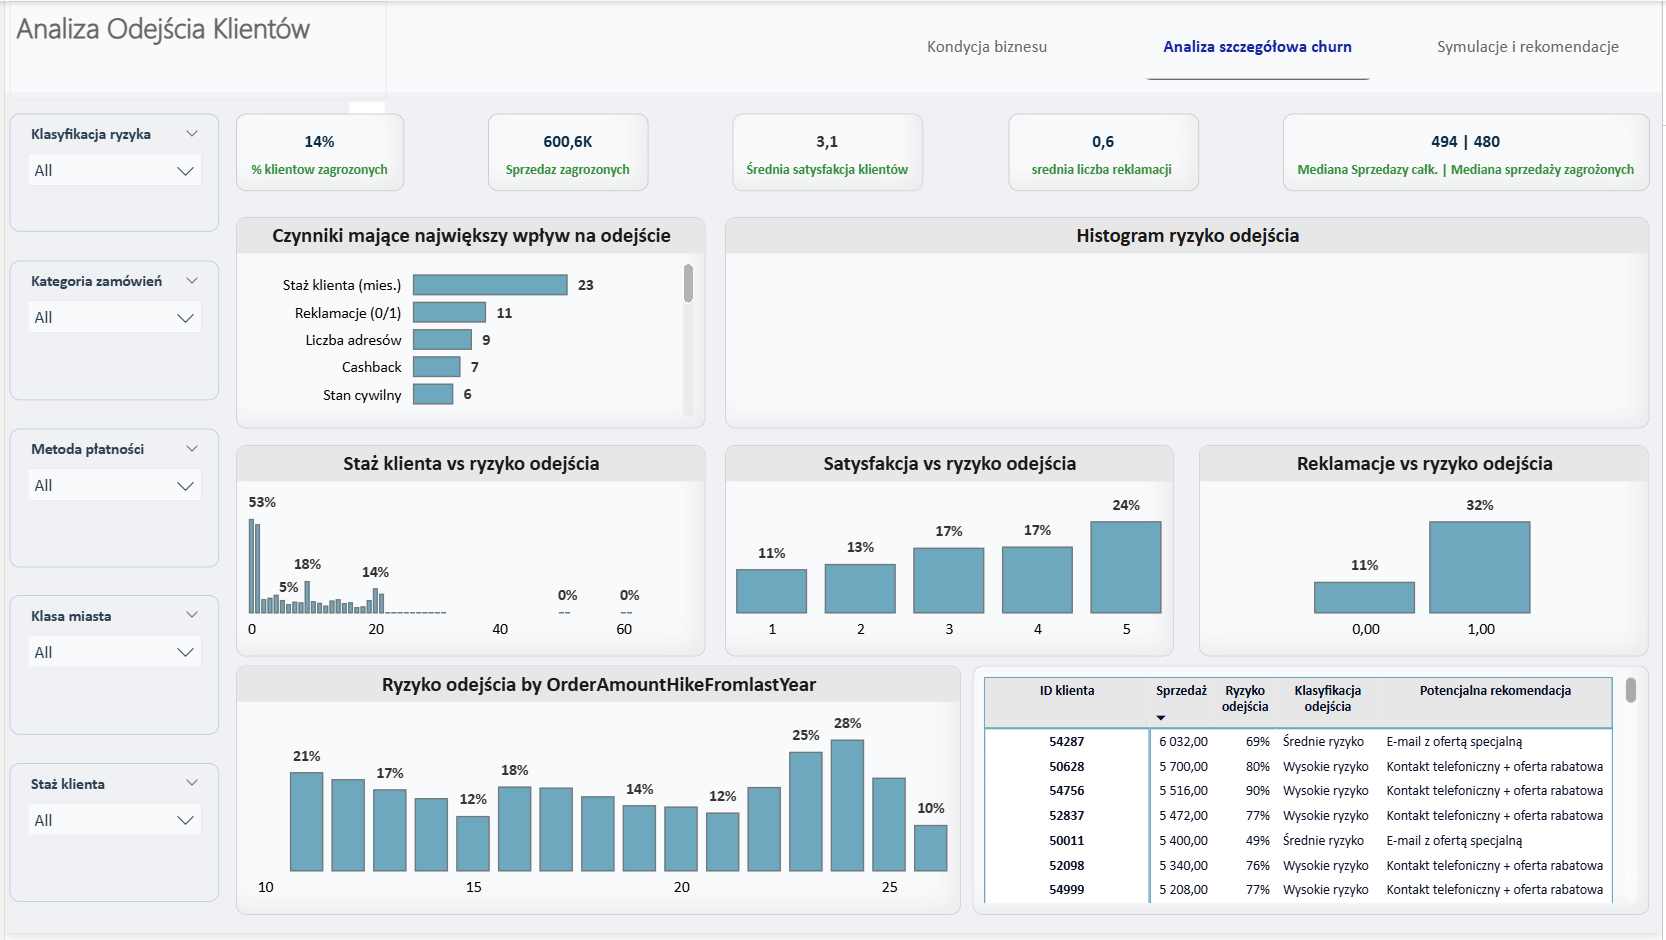

The dashboard page shown, as its layout file describes it:
{"tool":"powerbi","page":{"name":"Analiza szczegółowa churn","canvas":[1280,720],"ordinal":1},"visuals":[{"type":"shape","box":[0,0,1279.2,70.7],"z":0},{"type":"textbox","box":[3.5,0,290.8,76.5],"z":1000},{"type":"card","fields":{"Values":["Measure_table.% klientow zagrozonych"]},"box":[178.4,86.9,129.8,60.3],"z":2000},{"type":"card","fields":{"Values":["Measure_table.srednia liczba reklamacji klientow zagrozonych"]},"box":[774.7,86.9,147.2,60.3],"z":4000},{"type":"card","fields":{"Values":["Measure_table.Sprzedaz zagrozonych"]},"box":[373.3,86.9,124,60.3],"z":5000},{"type":"card","fields":{"Values":["Measure_table.srednia Sprzedaz zagrozonych"]},"box":[987,87,283,60],"z":6000},{"type":"slicer","fields":{"Values":["Data_set.PreferedOrderCat_PL"]},"box":[3,200,162,108],"z":7000},{"type":"slicer","fields":{"Values":["Data_set.PreferredPaymentMode_PL"]},"box":[3,330,162,107],"z":8000},{"type":"slicer","fields":{"Values":["Data_set.CityTier"]},"box":[3,459,162,108],"z":9000},{"type":"slicer","fields":{"Values":["Data_set.Tenure"]},"box":[3,589,162,107],"z":10000},{"type":"slicer","fields":{"Values":["All_Customers.Churn_risk_PL"]},"box":[3,87,162,91],"z":11000},{"type":"pageNavigator","box":[659.8,0,619.6,70.4],"z":12000},{"type":"barChart","title":"Czynniki mające największy wpływ na odejście","fields":{"Category":["XGBoost_importance.feature_friendly"],"Y":["Sum(XGBoost_importance.importance_pct)"]},"box":[178.4,166.9,362.7,163.4],"z":13000},{"type":"card","fields":{"Values":["Measure_table.Średnia satysfakcja klientów"]},"box":[562.4,86.9,147.2,60.3],"z":14000},{"type":"lineStackedColumnComboChart","title":"Satysfakcja vs ryzyko odejścia","fields":{"Category":["All_Customers.SatisfactionScore"],"Y":["Measure_table.Ryzyko odejścia"]},"box":[556.2,343,346.5,163.4],"z":15000},{"type":"lineStackedColumnComboChart","fields":{"Category":["All_Customers.OrderAmountHikeFromlastYear"],"Y":["Measure_table.Ryzyko odejścia"]},"box":[178.4,513.3,559.7,192.3],"z":16000},{"type":"lineStackedColumnComboChart","title":"Reklamacje vs ryzyko odejścia","fields":{"Category":["All_Customers.Complain"],"Y":["Measure_table.Ryzyko odejścia"]},"box":[922.4,343,347.6,163.4],"z":17000},{"type":"lineStackedColumnComboChart","title":"Staż klienta vs ryzyko odejścia","fields":{"Category":["All_Customers.Tenure"],"Y":["Measure_table.Ryzyko odejścia"]},"box":[178.4,343,362.7,163.4],"z":18000},{"type":"pivotTable","fields":{"Values":["Sum(Data_set.NetSales)","Measure_table.Ryzyko odejścia","Min(All_Customers.Churn_risk_PL)","Min(All_Customers.rekomendacja)"],"Rows":["Data_set.CustomerID"]},"box":[747.4,513.3,522.6,192.3],"z":19000},{"type":"histogramF963F133BA02A0B35D286F09F80E9C78","title":"Histogram ryzyko odejścia","fields":{"col_2":["All_Customers.churn_proba"],"col_3":["All_Customers.CustomerID"]},"box":[556.2,166.9,713.8,163.4],"z":20000}]}

Visuals, with their boxes in screenshot pixels (x1, y1, x2, y2), scaled from the page's 1280x720 canvas onto the 1666x940 screenshot:
shape: x1=0, y1=0, x2=1665, y2=92
textbox: x1=5, y1=0, x2=383, y2=100
card - Measure_table.% klientow zagrozonych: x1=232, y1=113, x2=401, y2=192
card - Measure_table.srednia liczba reklamacji klientow zagrozonych: x1=1008, y1=113, x2=1200, y2=192
card - Measure_table.Sprzedaz zagrozonych: x1=486, y1=113, x2=647, y2=192
card - Measure_table.srednia Sprzedaz zagrozonych: x1=1285, y1=114, x2=1653, y2=192
slicer - Data_set.PreferedOrderCat_PL: x1=4, y1=261, x2=215, y2=402
slicer - Data_set.PreferredPaymentMode_PL: x1=4, y1=431, x2=215, y2=571
slicer - Data_set.CityTier: x1=4, y1=599, x2=215, y2=740
slicer - Data_set.Tenure: x1=4, y1=769, x2=215, y2=909
slicer - All_Customers.Churn_risk_PL: x1=4, y1=114, x2=215, y2=232
pageNavigator: x1=859, y1=0, x2=1665, y2=92
"Czynniki mające największy wpływ na odejście" barChart: x1=232, y1=218, x2=704, y2=431
card - Measure_table.Średnia satysfakcja klientów: x1=732, y1=113, x2=924, y2=192
"Satysfakcja vs ryzyko odejścia" lineStackedColumnComboChart: x1=724, y1=448, x2=1175, y2=661
lineStackedColumnComboChart - All_Customers.OrderAmountHikeFromlastYear x Measure_table.Ryzyko odejścia: x1=232, y1=670, x2=961, y2=921
"Reklamacje vs ryzyko odejścia" lineStackedColumnComboChart: x1=1201, y1=448, x2=1653, y2=661
"Staż klienta vs ryzyko odejścia" lineStackedColumnComboChart: x1=232, y1=448, x2=704, y2=661
pivotTable - Sum(Data_set.NetSales) x Measure_table.Ryzyko odejścia: x1=973, y1=670, x2=1653, y2=921
"Histogram ryzyko odejścia" histogramF963F133BA02A0B35D286F09F80E9C78: x1=724, y1=218, x2=1653, y2=431
